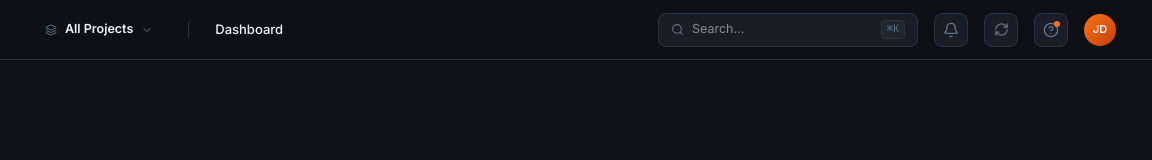
TopBar search › shows cache-empty hint when cache is empty and query is typed
Type "anything" into the field with placeholder "Search…" at point(782, 29), box [692,20,873,38]
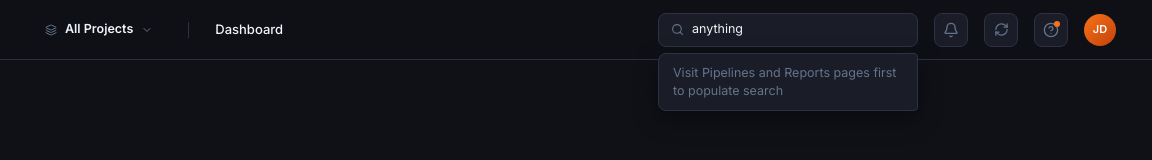
Expected: the text "Visit Pipelines and Reports pages first to populate search" is shown, [673,64,896,98]
